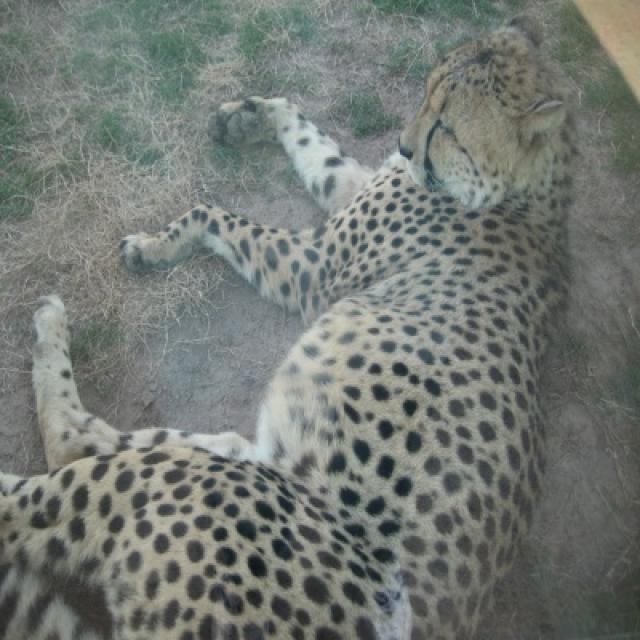Cheetah: (1, 13, 578, 638)
